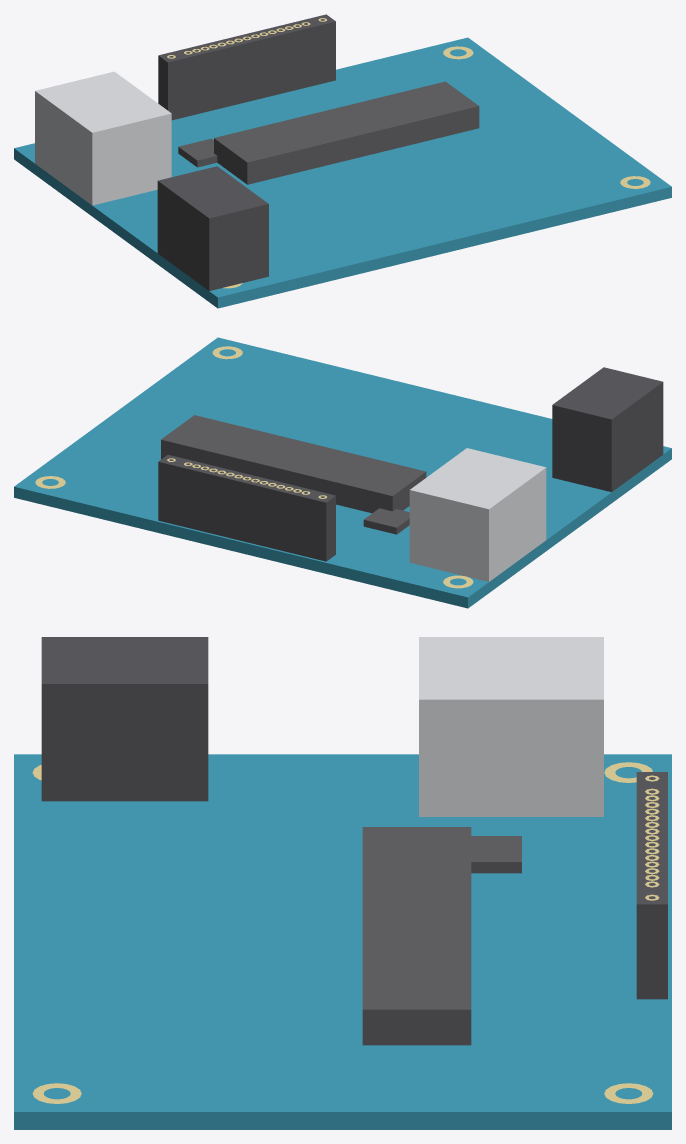
Rendered from arduino-uno-r3.glb.
3 views of the same model, one above another, from view 1: azimuth 30°, elevation 25°; view 2: azimuth 150°, elevation 25°; view 3: azimuth 270°, elevation 25° (orthographic). The views are drawn at different scales.
Parts seen in each view (by area): view 1: arduino-uno-r3-pcb, arduino-uno-r3-plastic, arduino-uno-r3-ic, arduino-uno-r3-metal, arduino-uno-r3-mounting-pads, arduino-uno-r3-pins; view 2: arduino-uno-r3-pcb, arduino-uno-r3-plastic, arduino-uno-r3-metal, arduino-uno-r3-ic, arduino-uno-r3-mounting-pads, arduino-uno-r3-pins; view 3: arduino-uno-r3-pcb, arduino-uno-r3-plastic, arduino-uno-r3-metal, arduino-uno-r3-ic, arduino-uno-r3-mounting-pads, arduino-uno-r3-pins.
Boxes of the visible parts, bbox=[...] form: arduino-uno-r3-pcb: bbox=[14, 37, 671, 308]; arduino-uno-r3-plastic: bbox=[157, 14, 335, 290]; arduino-uno-r3-ic: bbox=[178, 81, 479, 184]; arduino-uno-r3-metal: bbox=[35, 71, 171, 205]; arduino-uno-r3-mounting-pads: bbox=[223, 46, 650, 288]; arduino-uno-r3-pins: bbox=[167, 18, 326, 58]; arduino-uno-r3-pcb: bbox=[14, 337, 671, 608]; arduino-uno-r3-plastic: bbox=[158, 367, 663, 561]; arduino-uno-r3-metal: bbox=[409, 448, 546, 581]; arduino-uno-r3-ic: bbox=[161, 415, 426, 534]; arduino-uno-r3-mounting-pads: bbox=[35, 346, 473, 588]; arduino-uno-r3-pins: bbox=[167, 458, 326, 498]; arduino-uno-r3-pcb: bbox=[14, 754, 671, 1129]; arduino-uno-r3-plastic: bbox=[41, 637, 667, 999]; arduino-uno-r3-metal: bbox=[419, 637, 603, 816]; arduino-uno-r3-ic: bbox=[362, 827, 521, 1045]; arduino-uno-r3-mounting-pads: bbox=[32, 762, 653, 1103]; arduino-uno-r3-pins: bbox=[645, 775, 659, 900].
Size of the model in its own units: 0.0686 by 0.0121 by 0.0533.
